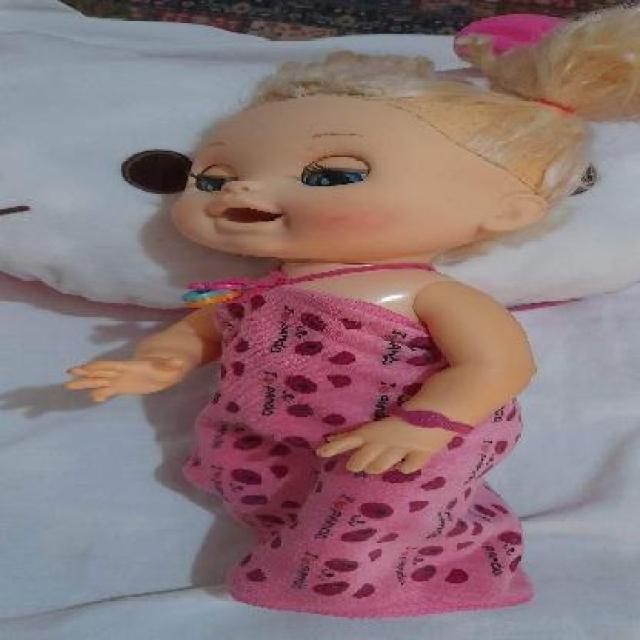non-dog: (67, 2, 640, 627)
